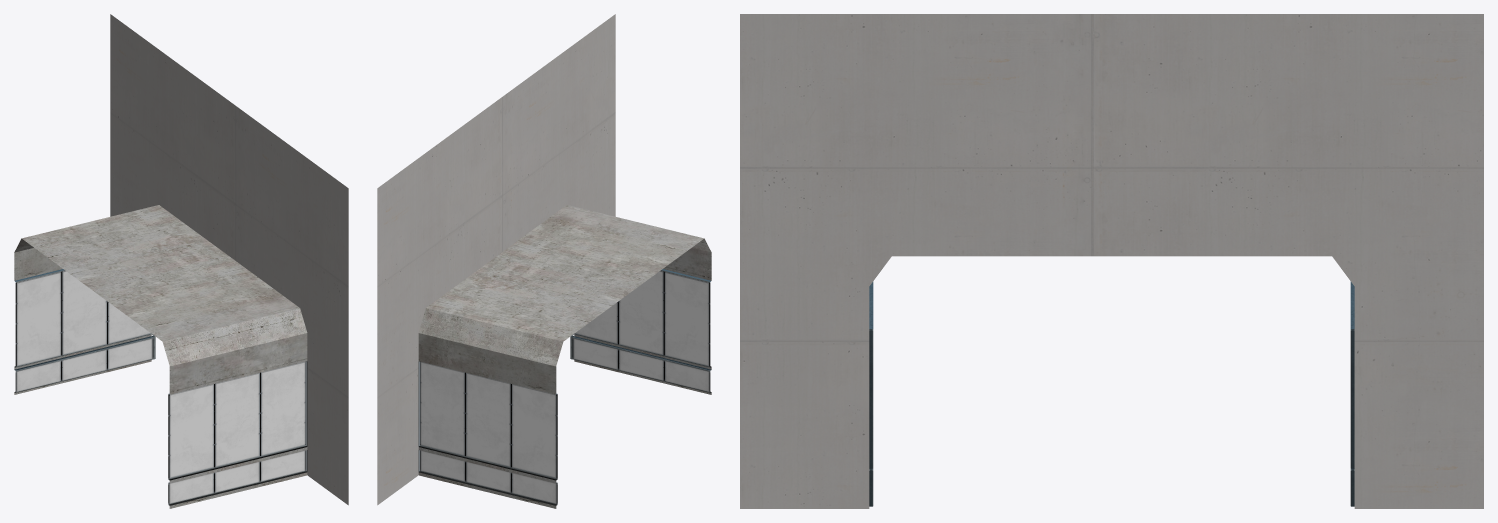
File: Preset_TunnelWallAa.fbx
3 views of the same model, side by side, from view 1: azimuth 30°, elevation 25°; view 2: azimuth 150°, elevation 25°; view 3: azimuth 270°, elevation 25° (orthographic). The views are drawn at different scales.
Parts seen in each view (by area): view 1: Wall_Concrete, Wall_Concrete1, Wall_SteelB, Wall_SteelA; view 2: Wall_Concrete, Wall_Concrete1, Wall_SteelA, Wall_SteelB; view 3: Wall_Concrete, Wall_SteelA, Wall_SteelB.
Boxes of the visible parts, left/top/right/bottom form: Wall_Concrete: left=110, top=14, right=348, bottom=505; Wall_Concrete1: left=14, top=205, right=307, bottom=508; Wall_SteelB: left=168, top=361, right=307, bottom=505; Wall_SteelA: left=14, top=269, right=155, bottom=392; Wall_Concrete: left=377, top=14, right=615, bottom=505; Wall_Concrete1: left=418, top=205, right=711, bottom=508; Wall_SteelA: left=418, top=361, right=557, bottom=505; Wall_SteelB: left=570, top=269, right=711, bottom=392; Wall_Concrete: left=740, top=14, right=1483, bottom=508; Wall_SteelA: left=1350, top=281, right=1354, bottom=506; Wall_SteelB: left=869, top=281, right=873, bottom=506.
Size of the model in its own units: 408 by 1200 by 881.
3 materials, 3 textured.
